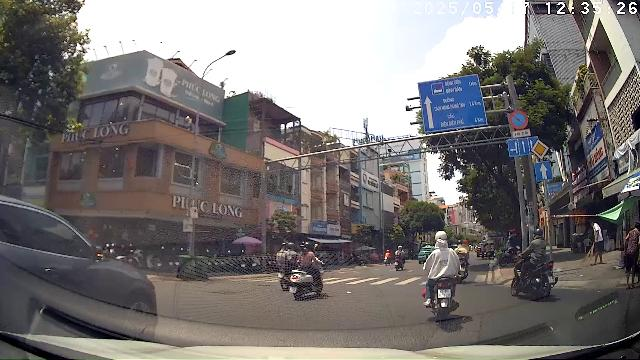131a-cam-do-xe: (510, 110, 528, 130)
